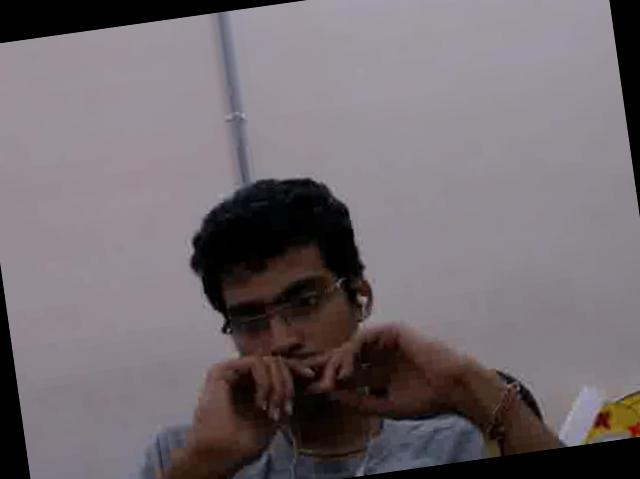bosan: (216, 231, 367, 402)
